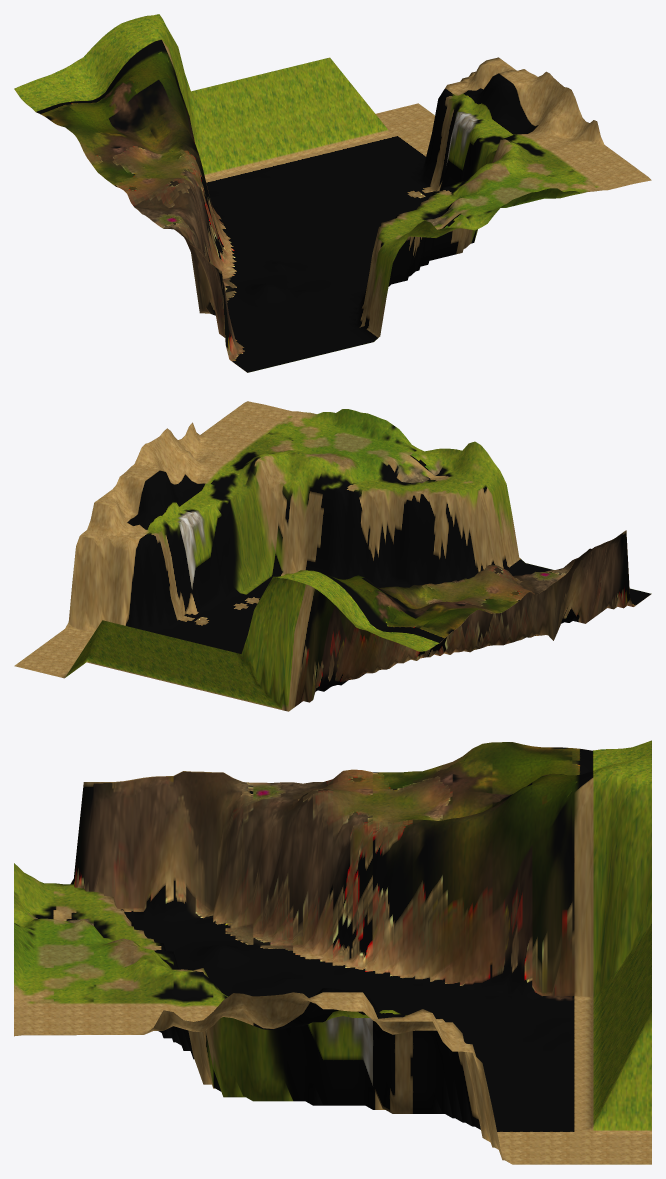
File: terrain.glb
3 renders of one model, top to bottom at view 1: azimuth 30°, elevation 25°; view 2: azimuth 150°, elevation 25°; view 3: azimuth 270°, elevation 25°, orthographic. The views are drawn at different scales.
Visible parts, largest first — view 1: terrain_1_3; view 2: terrain_1_3; view 3: terrain_1_3.
Boxes of the visible parts, left/top/right/bottom form: terrain_1_3: left=14, top=14, right=651, bottom=372; terrain_1_3: left=14, top=401, right=651, bottom=711; terrain_1_3: left=14, top=740, right=651, bottom=1164.
Size of the model in its own units: 512 by 186 by 512.
Materials: 1 (1 with a texture image).
